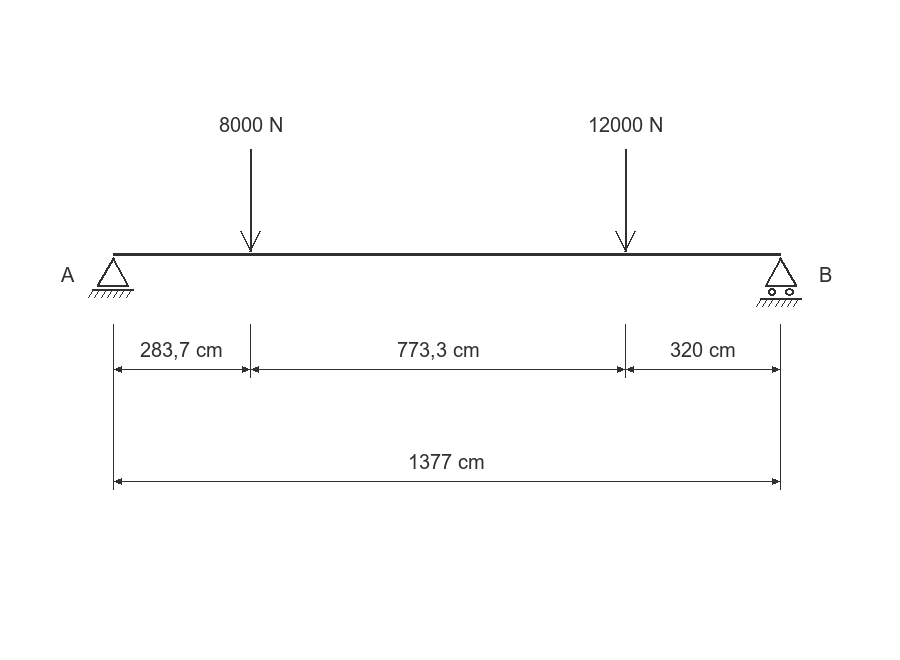pin_support: (88, 257, 134, 298)
point_load: (240, 149, 261, 252), (615, 149, 636, 252)
roller_support: (756, 257, 802, 307)
